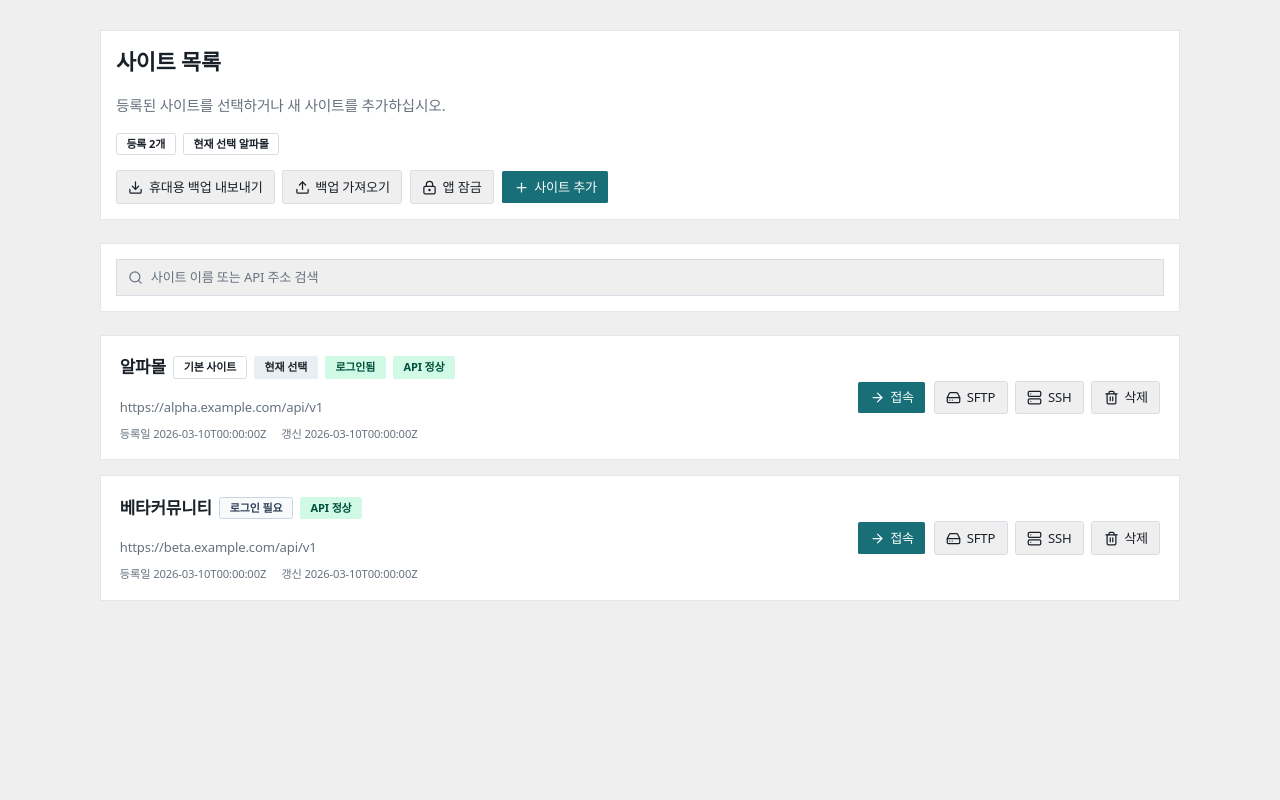
Test: SiteDashboardPage › requires a dedicated backup password for portable backup export
Click the button "휴대용 백업 내보내기" at (195, 187), box [116, 170, 275, 204]
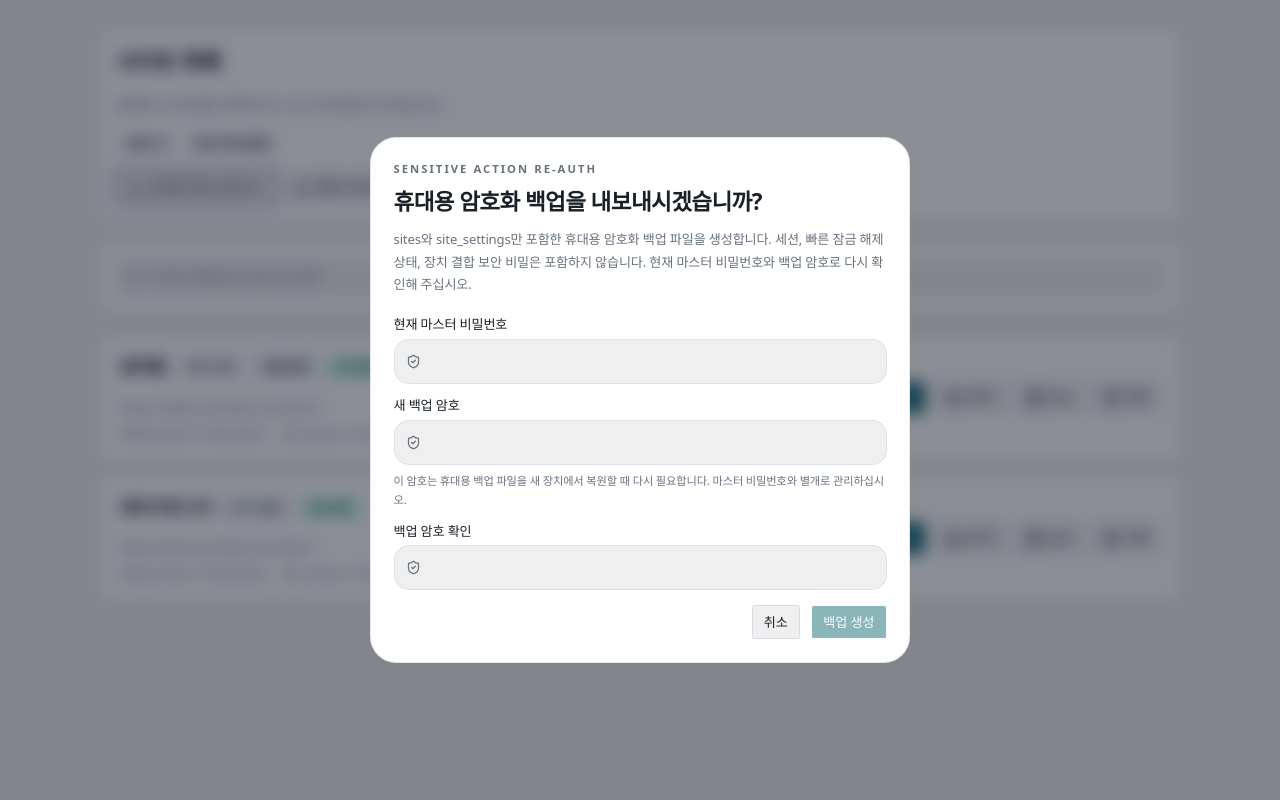
Now the dialog is shown, box [370, 137, 910, 662]
Now the password field labelled "새 백업 암호" is shown, box [421, 421, 886, 464]
Now the password field labelled "백업 암호 확인" is shown, box [421, 546, 886, 589]
